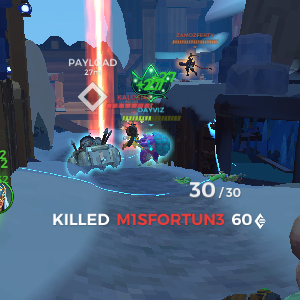model: (120, 119, 142, 152), (181, 50, 204, 81)
